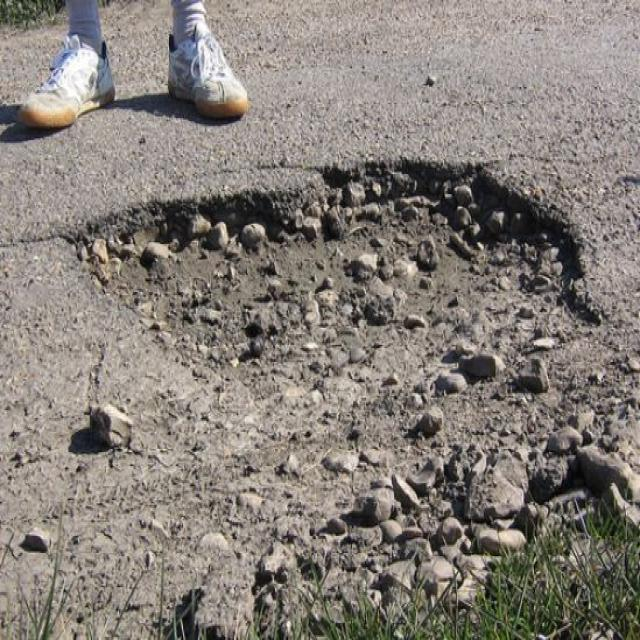pothole: (55, 149, 602, 430)
